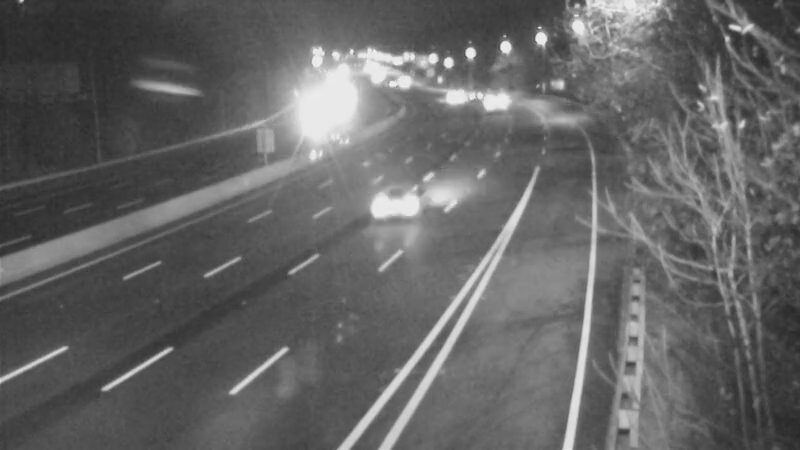vehicle: (355, 163, 435, 243), (373, 57, 423, 107), (426, 69, 476, 119), (449, 70, 499, 120), (469, 78, 519, 128)
